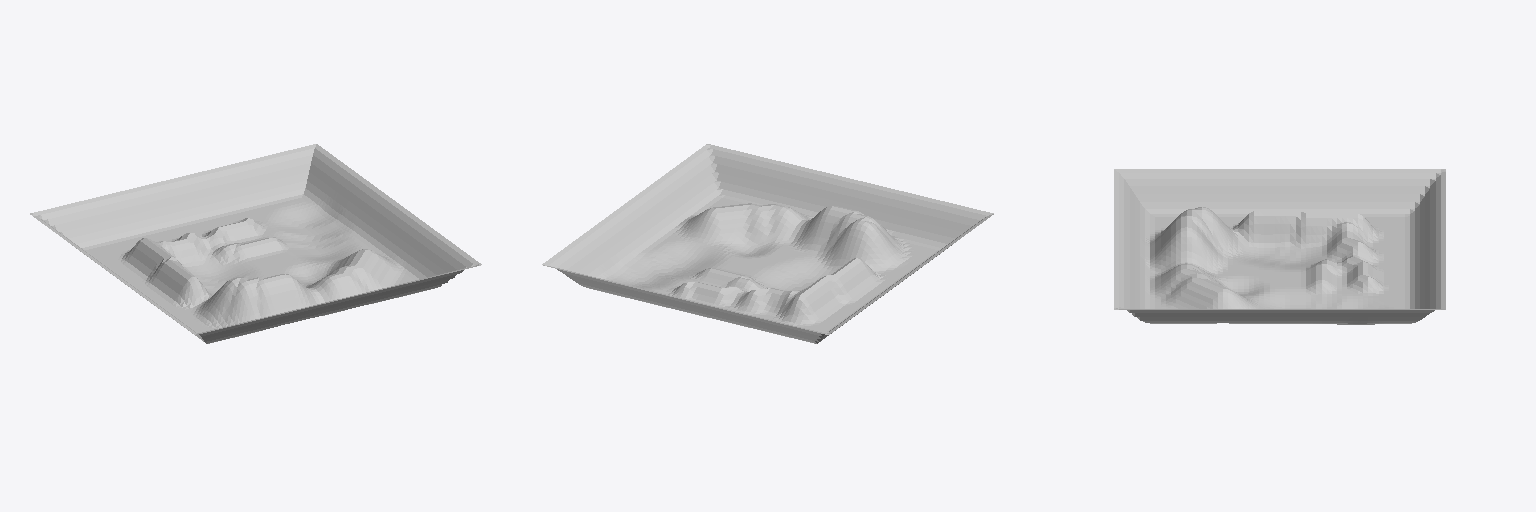
The model's file is terrain.obj.
The picture shows the model from 3 angles: view 1: azimuth 30°, elevation 25°; view 2: azimuth 150°, elevation 25°; view 3: azimuth 270°, elevation 25°; orthographic projection.
Visible parts, largest first — view 1: Plane; view 2: Plane; view 3: Plane.
Part boxes in pixels (bbox=[...]): Plane: bbox=[30, 144, 481, 343]; Plane: bbox=[542, 144, 993, 343]; Plane: bbox=[1114, 169, 1445, 324].
Size of the model in its own units: 100 by 13.36 by 100.